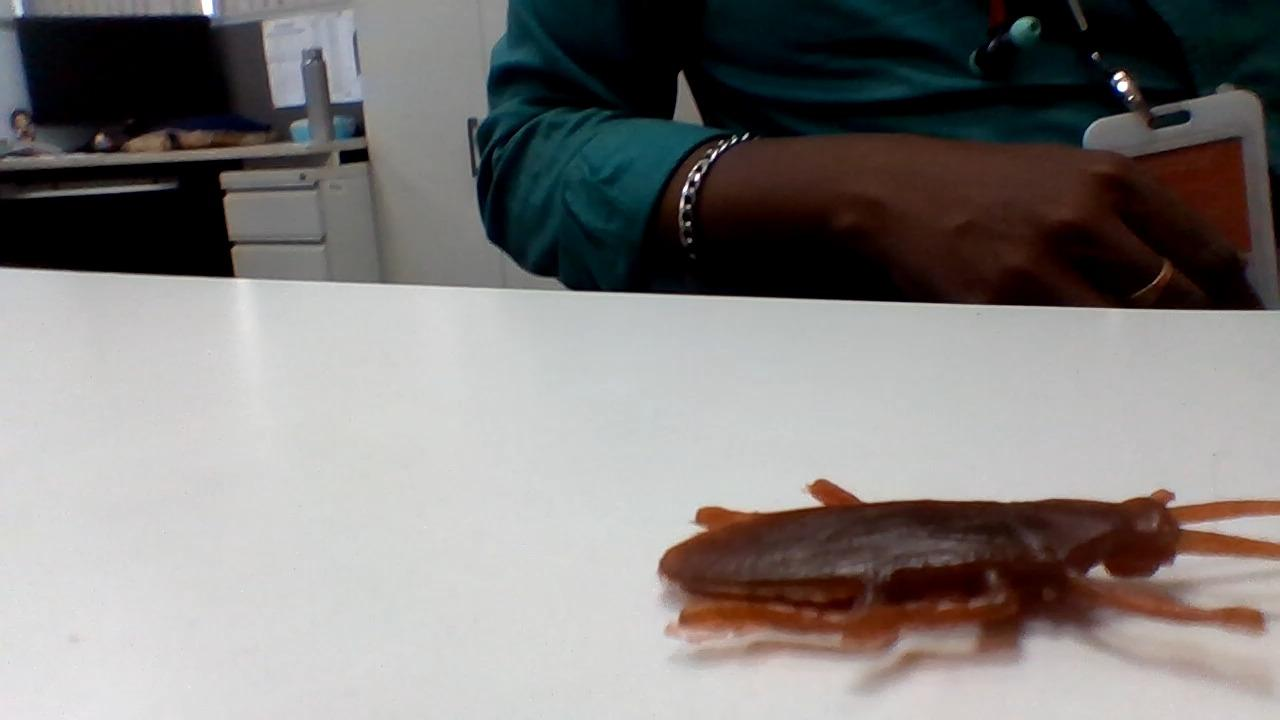cockroach: (620, 486, 1280, 664)
